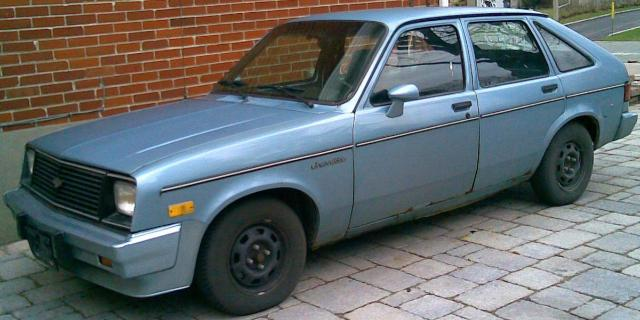chevette-1983: (4, 7, 638, 315)
